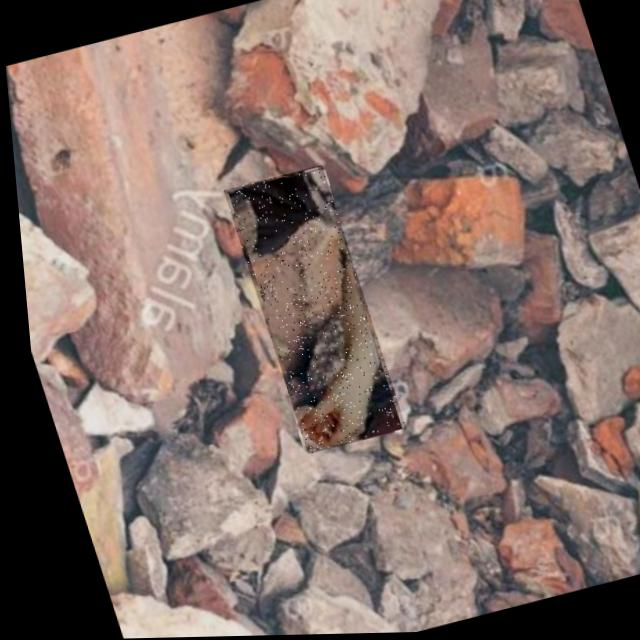Person in Rubble: (216, 165, 399, 455)
